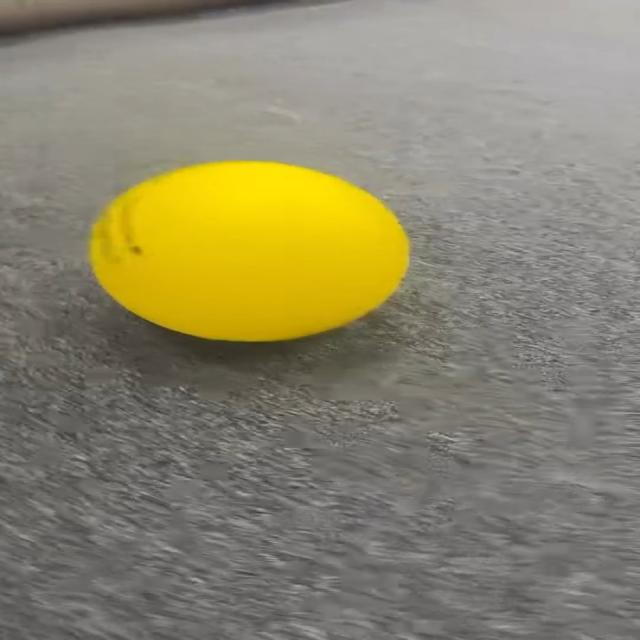Fuels: (90, 162, 404, 338)
